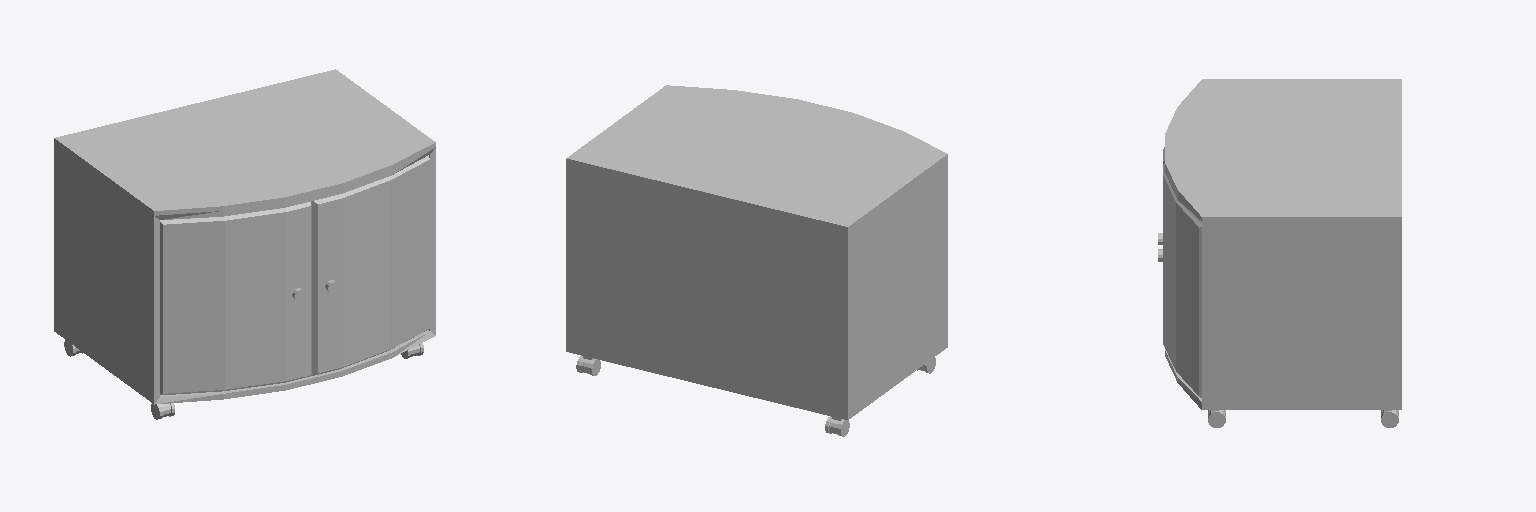
Rendered from eRack.obj.
The picture shows the model from 3 angles: view 1: azimuth 30°, elevation 25°; view 2: azimuth 150°, elevation 25°; view 3: azimuth 270°, elevation 25°; orthographic projection.
Visible parts, largest first — view 1: Mesh, Mesh (3), Mesh (2), Mesh (4); view 2: Mesh, Mesh (4); view 3: Mesh, Mesh (2), Mesh (4).
Part boxes in pixels (x1,y1,x2,y2): Mesh: (54, 69, 435, 404); Mesh (3): (160, 201, 311, 394); Mesh (2): (312, 155, 429, 375); Mesh (4): (64, 340, 423, 419); Mesh: (566, 85, 947, 419); Mesh (4): (576, 356, 935, 436); Mesh: (1158, 79, 1401, 409); Mesh (2): (1163, 163, 1201, 397); Mesh (4): (1208, 410, 1398, 427).
Bounding box in the file's own units: 0.51 × 0.3728 × 0.3821.